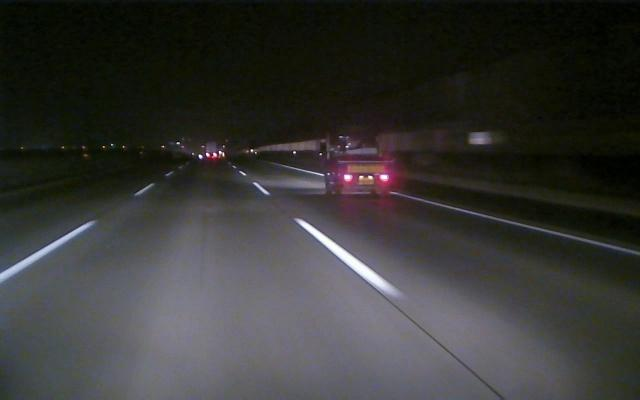lane: (256, 184, 408, 301), (389, 192, 636, 255), (1, 185, 150, 281)
